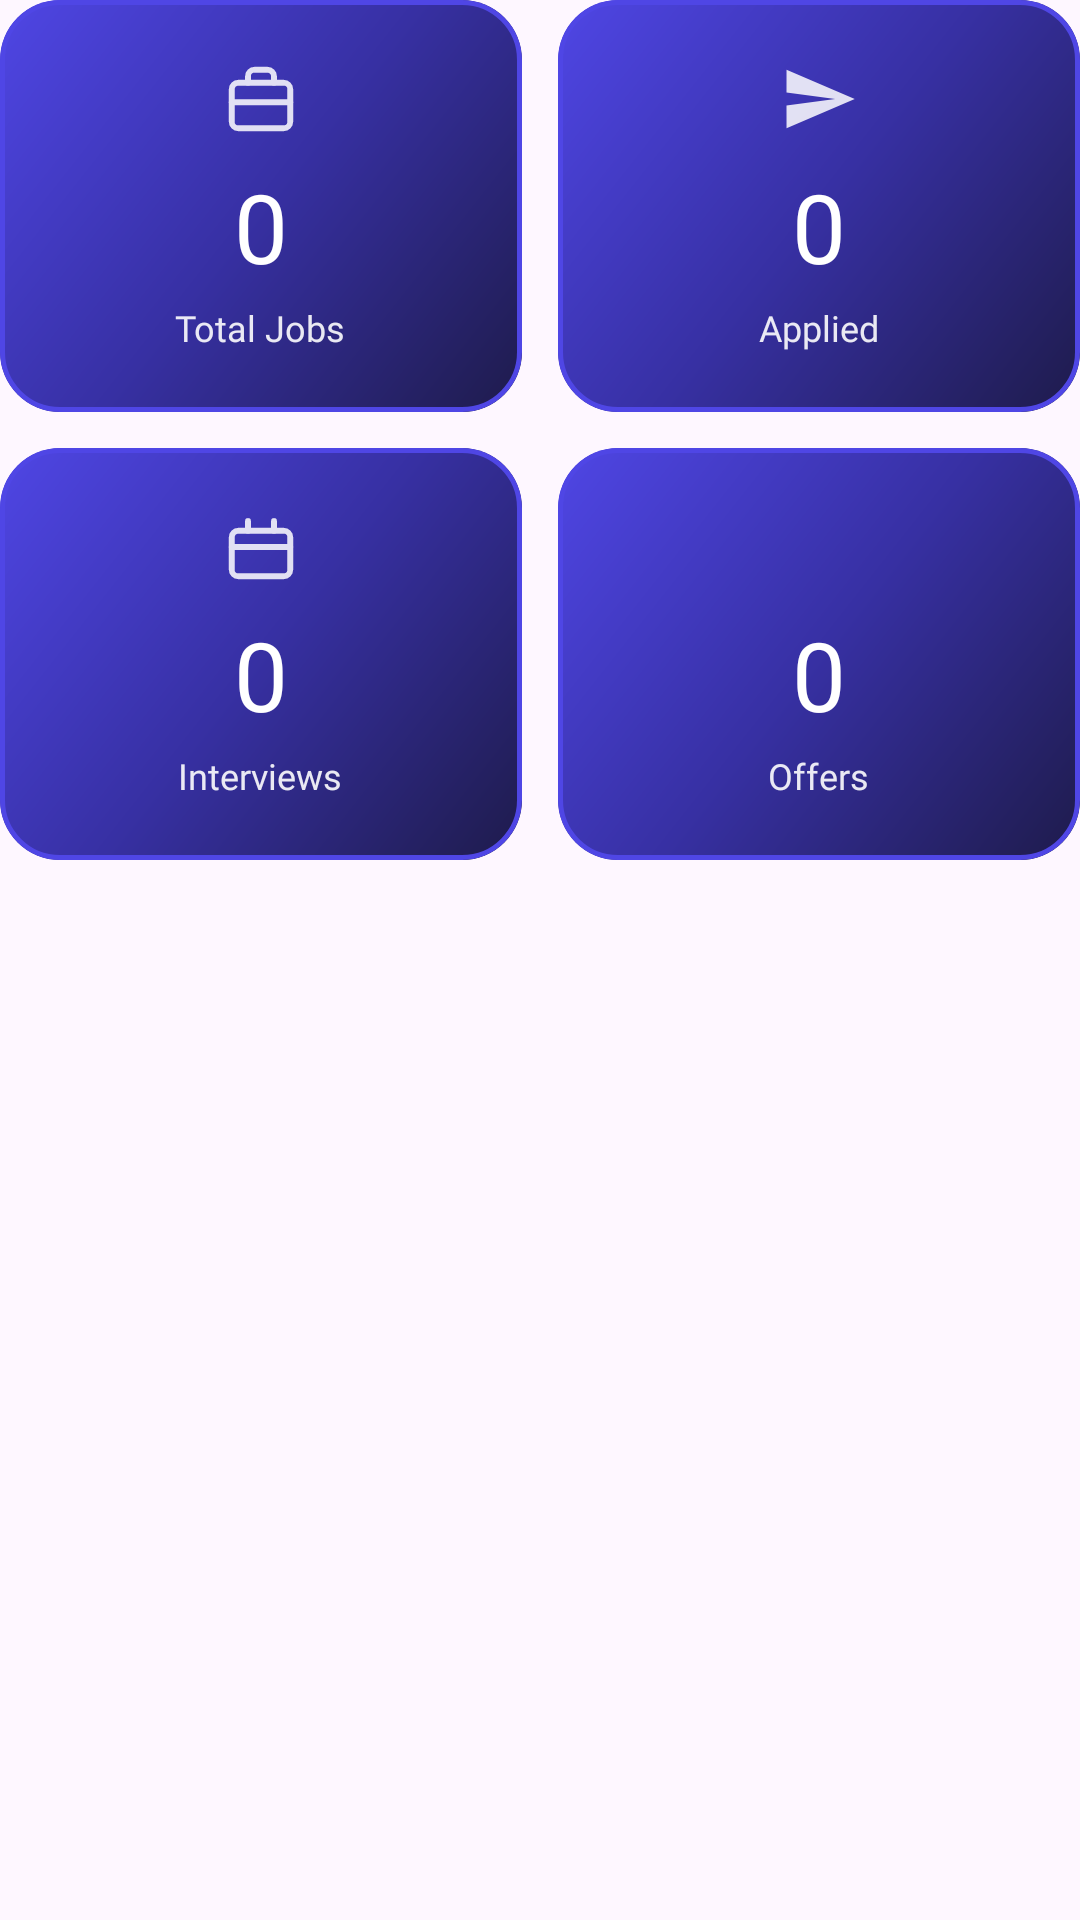

Named icons in this screenshot (1080 × 1920) and their centers, (x,y):
calendar: (261,549)
send: (820,99)
work: (261,99)
